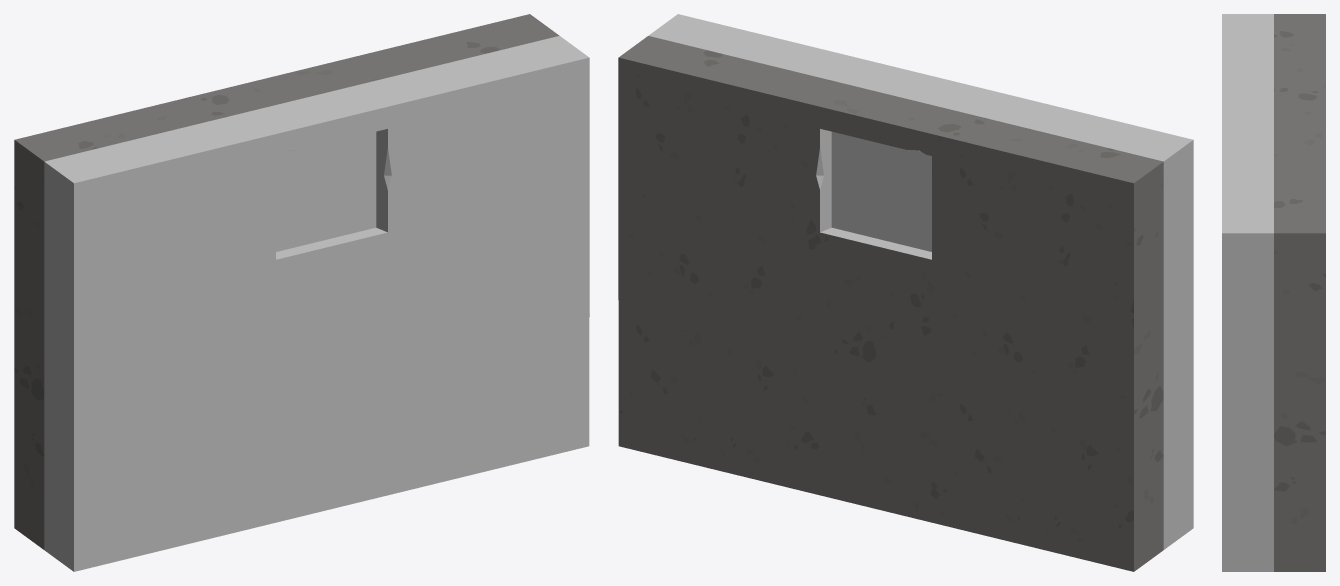
The model's file is SM_Bld_Grandstand_Wall_Doorway_01.fbx.
3 renders of one model, left to right at view 1: azimuth 30°, elevation 25°; view 2: azimuth 150°, elevation 25°; view 3: azimuth 270°, elevation 25°, orthographic. The views are drawn at different scales.
Visible parts, largest first — view 1: SM_Bld_Grandstand_Wall_Doorway_01; view 2: SM_Bld_Grandstand_Wall_Doorway_01; view 3: SM_Bld_Grandstand_Wall_Doorway_01.
Boxes of the visible parts, <box> form: SM_Bld_Grandstand_Wall_Doorway_01: <box>14,14,589,571</box>; SM_Bld_Grandstand_Wall_Doorway_01: <box>618,14,1193,571</box>; SM_Bld_Grandstand_Wall_Doorway_01: <box>1222,14,1325,571</box>.
Size of the model in its own units: 1250 by 901 by 250.
